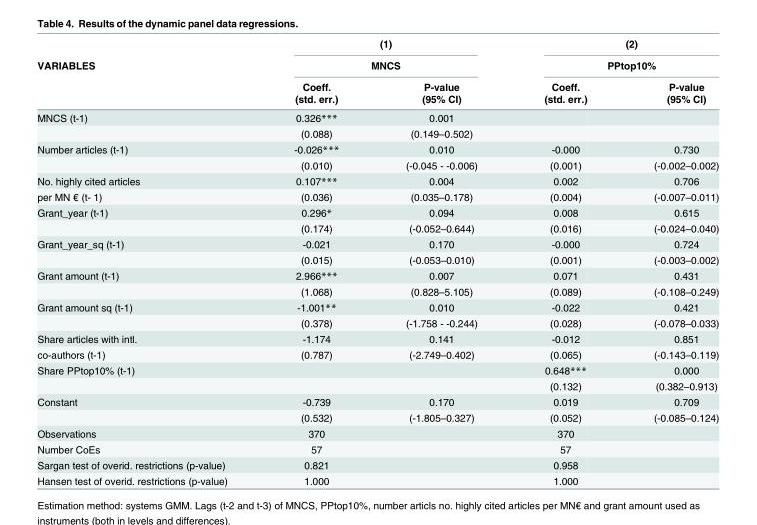table: (36, 37, 718, 486)
table column: (36, 37, 260, 486), (371, 37, 510, 486), (260, 37, 371, 486), (510, 37, 619, 486), (619, 37, 718, 486)
table column header: (36, 37, 718, 107)
table row: (36, 53, 718, 75), (36, 107, 718, 125), (36, 75, 718, 92), (36, 37, 718, 53), (36, 125, 718, 141), (36, 141, 718, 157), (36, 172, 718, 188), (36, 188, 718, 204), (36, 204, 718, 220), (36, 235, 718, 251), (36, 251, 718, 267), (36, 267, 718, 283), (36, 298, 718, 314), (36, 314, 718, 330), (36, 330, 718, 346), (36, 346, 718, 362), (36, 362, 718, 378), (36, 393, 718, 409), (36, 409, 718, 425), (36, 440, 718, 456), (36, 456, 718, 472), (36, 92, 718, 107), (36, 157, 718, 172), (36, 220, 718, 235), (36, 283, 718, 298), (36, 378, 718, 393), (36, 425, 718, 440), (36, 472, 718, 486)
table spanning cell: (36, 37, 260, 107), (260, 37, 510, 75), (510, 37, 718, 75), (36, 107, 260, 141), (36, 235, 260, 267), (36, 298, 260, 330), (36, 393, 260, 425), (36, 141, 260, 172), (36, 204, 260, 235), (36, 267, 260, 298), (36, 362, 260, 393), (371, 75, 510, 107), (260, 75, 371, 107), (510, 75, 619, 107), (619, 75, 718, 107)
